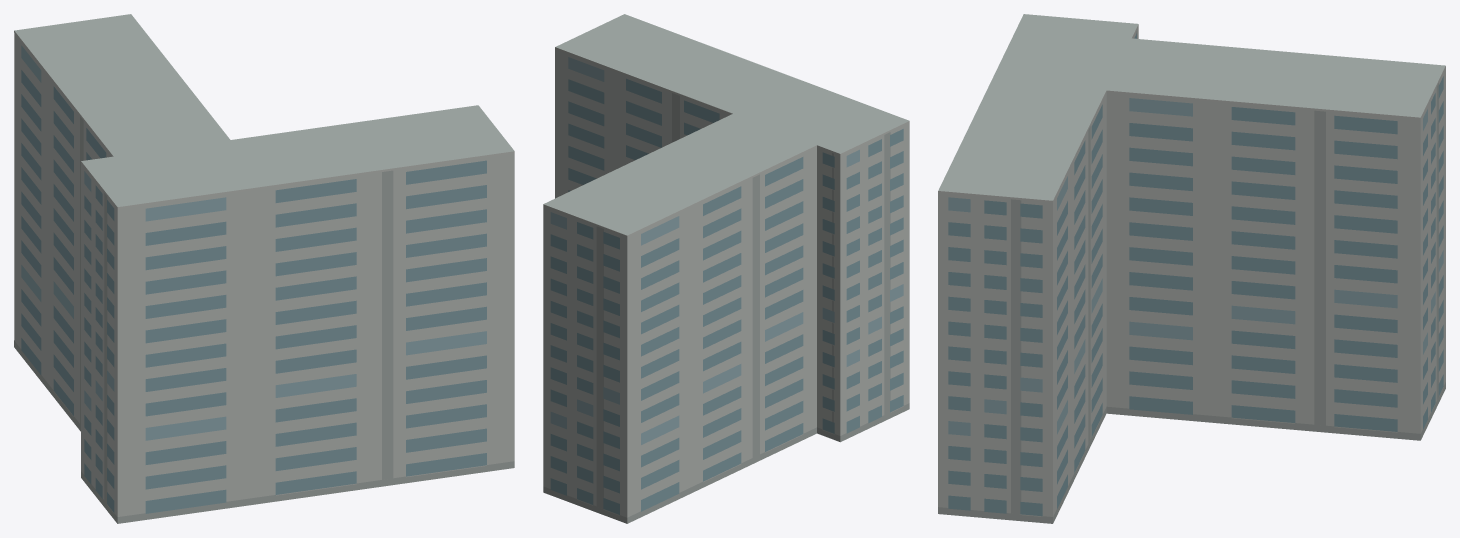
Rendered from residential-05526769-ff7f-43f5-bc7d-042cd40b3d4d.glb.
3 views of the same model, side by side, from view 1: azimuth 30°, elevation 25°; view 2: azimuth 150°, elevation 25°; view 3: azimuth 270°, elevation 25° (orthographic). The views are drawn at different scales.
Parts seen in each view (by area): view 1: residential-05526769-ff7f-43f5-bc7d-042cd40b3d4d.tmp; view 2: residential-05526769-ff7f-43f5-bc7d-042cd40b3d4d.tmp; view 3: residential-05526769-ff7f-43f5-bc7d-042cd40b3d4d.tmp.
Part boxes in pixels (x1=…): residential-05526769-ff7f-43f5-bc7d-042cd40b3d4d.tmp: x1=14, y1=14, x2=514, y2=523; residential-05526769-ff7f-43f5-bc7d-042cd40b3d4d.tmp: x1=543, y1=14, x2=909, y2=523; residential-05526769-ff7f-43f5-bc7d-042cd40b3d4d.tmp: x1=938, y1=14, x2=1445, y2=523.
Bounding box in the file's own units: 44.65 × 36 × 51.27.
